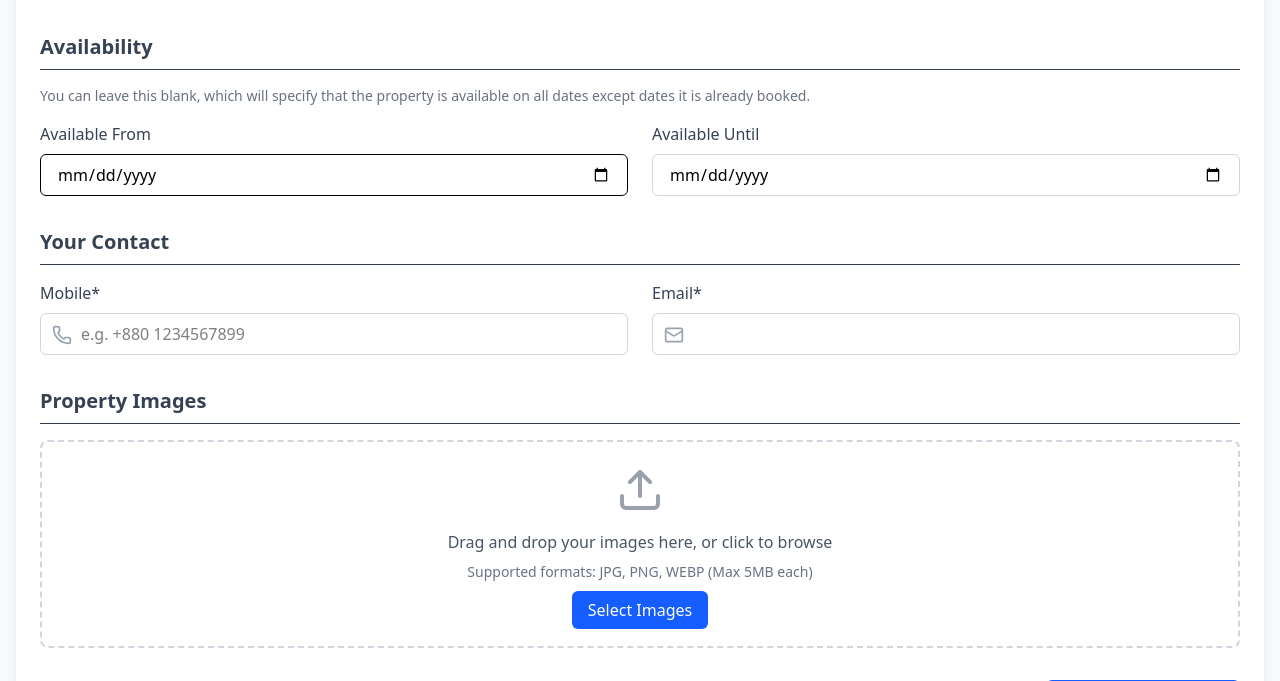
Test: PropertyForm Component › validates email format and shows error message
(page scrolled)
Note: Fill in the email field with invalid format
Type "invalid-email" into the field labelled "Email*". click: (946, 334)
box: [652,313,1240,355]
(page scrolled)
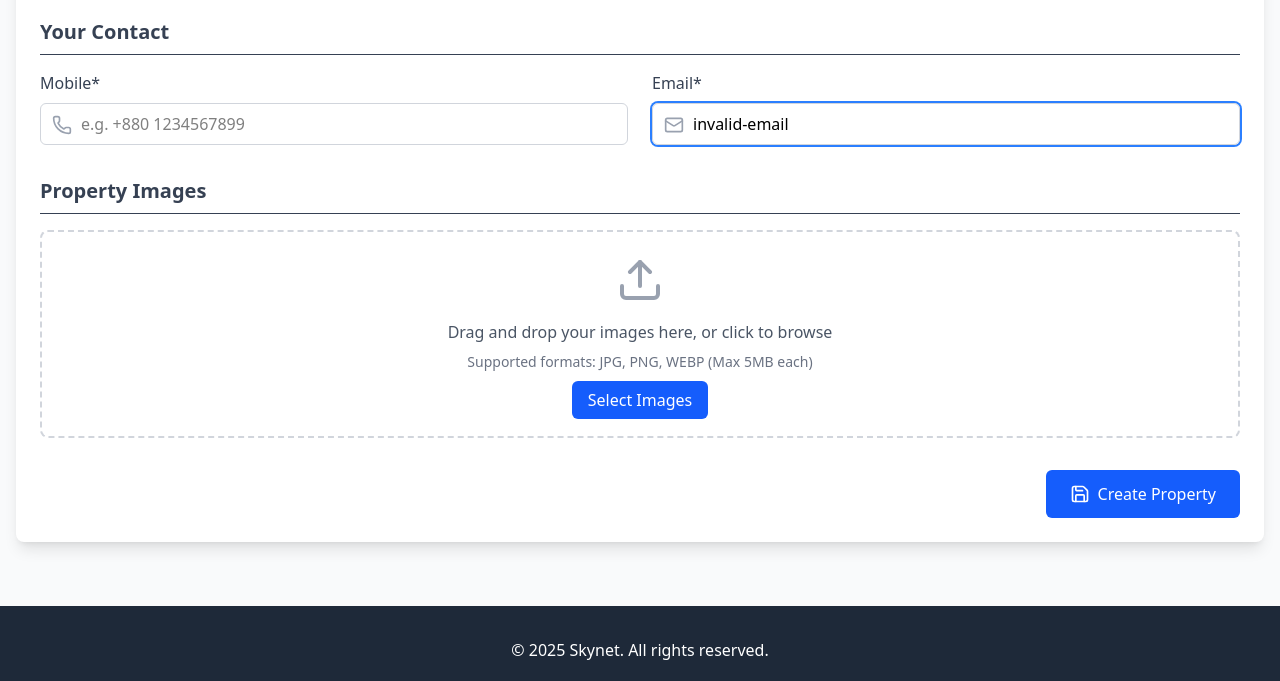
Note: Submit form
Click the button "Create Property". click: (1143, 494)
box: [1046,470,1240,518]
(page scrolled)
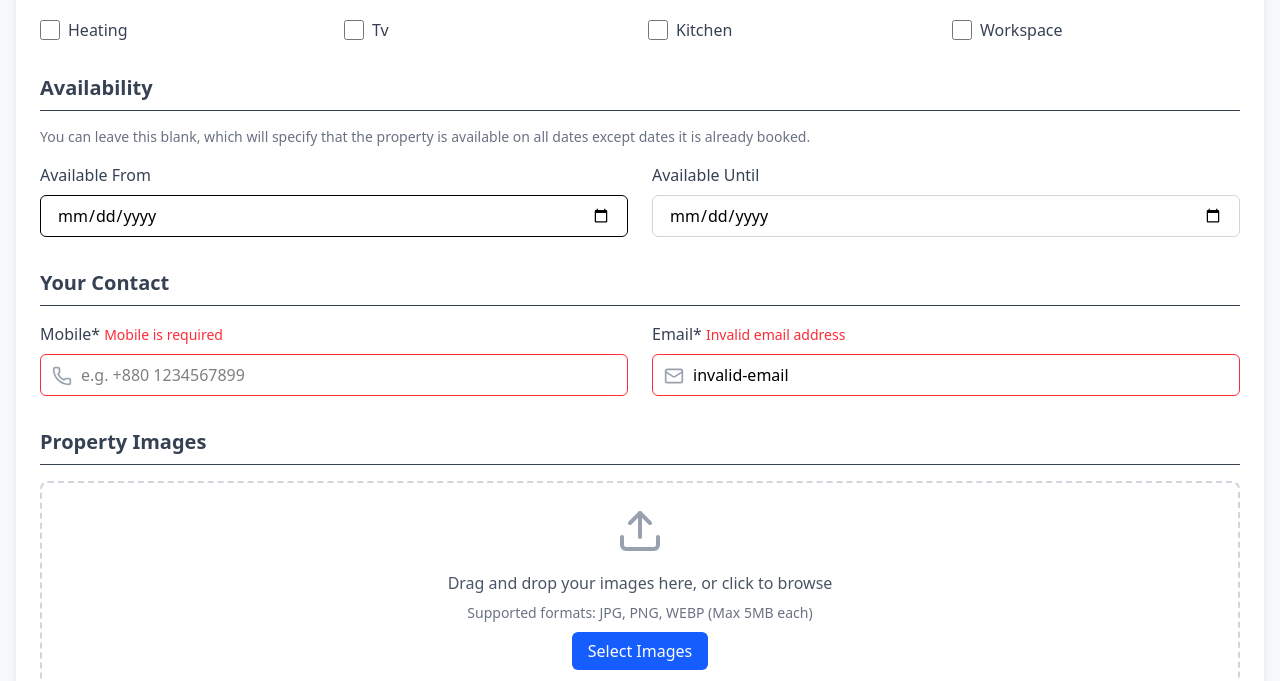
Check: the text "Invalid email address" is shown, box [706,325,845,344]
